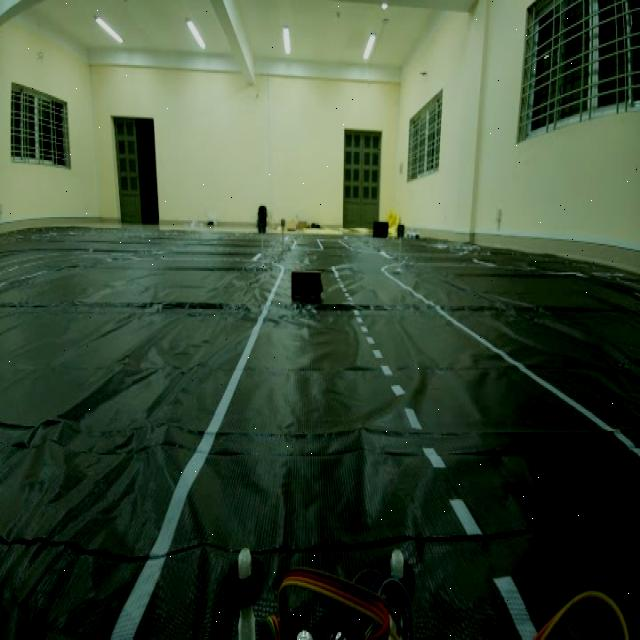roadblock: (288, 262, 328, 316)
